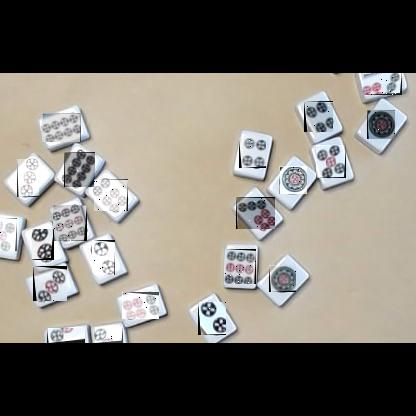1p: (367, 110, 395, 139), (279, 166, 307, 194), (269, 265, 296, 292)
2p: (198, 302, 226, 335), (92, 240, 115, 275), (32, 229, 54, 260)
3p: (33, 266, 67, 301), (17, 159, 39, 197), (47, 328, 85, 343), (95, 327, 123, 343)
4p: (304, 101, 333, 132), (239, 138, 266, 168)
5p: (316, 145, 346, 178), (0, 218, 17, 251)
6p: (94, 179, 128, 211), (122, 292, 159, 319)
7p: (236, 197, 275, 229), (363, 73, 402, 95)
8p: (42, 113, 81, 142), (64, 152, 95, 187)
9p: (53, 205, 87, 241), (224, 249, 256, 284)
